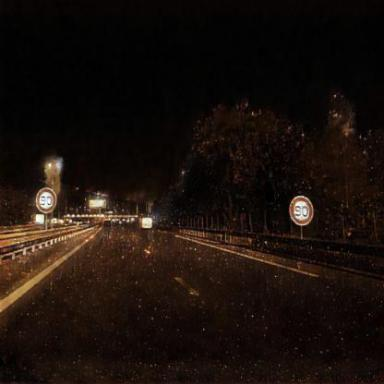Speed_limit_90: (36, 188, 57, 215)
